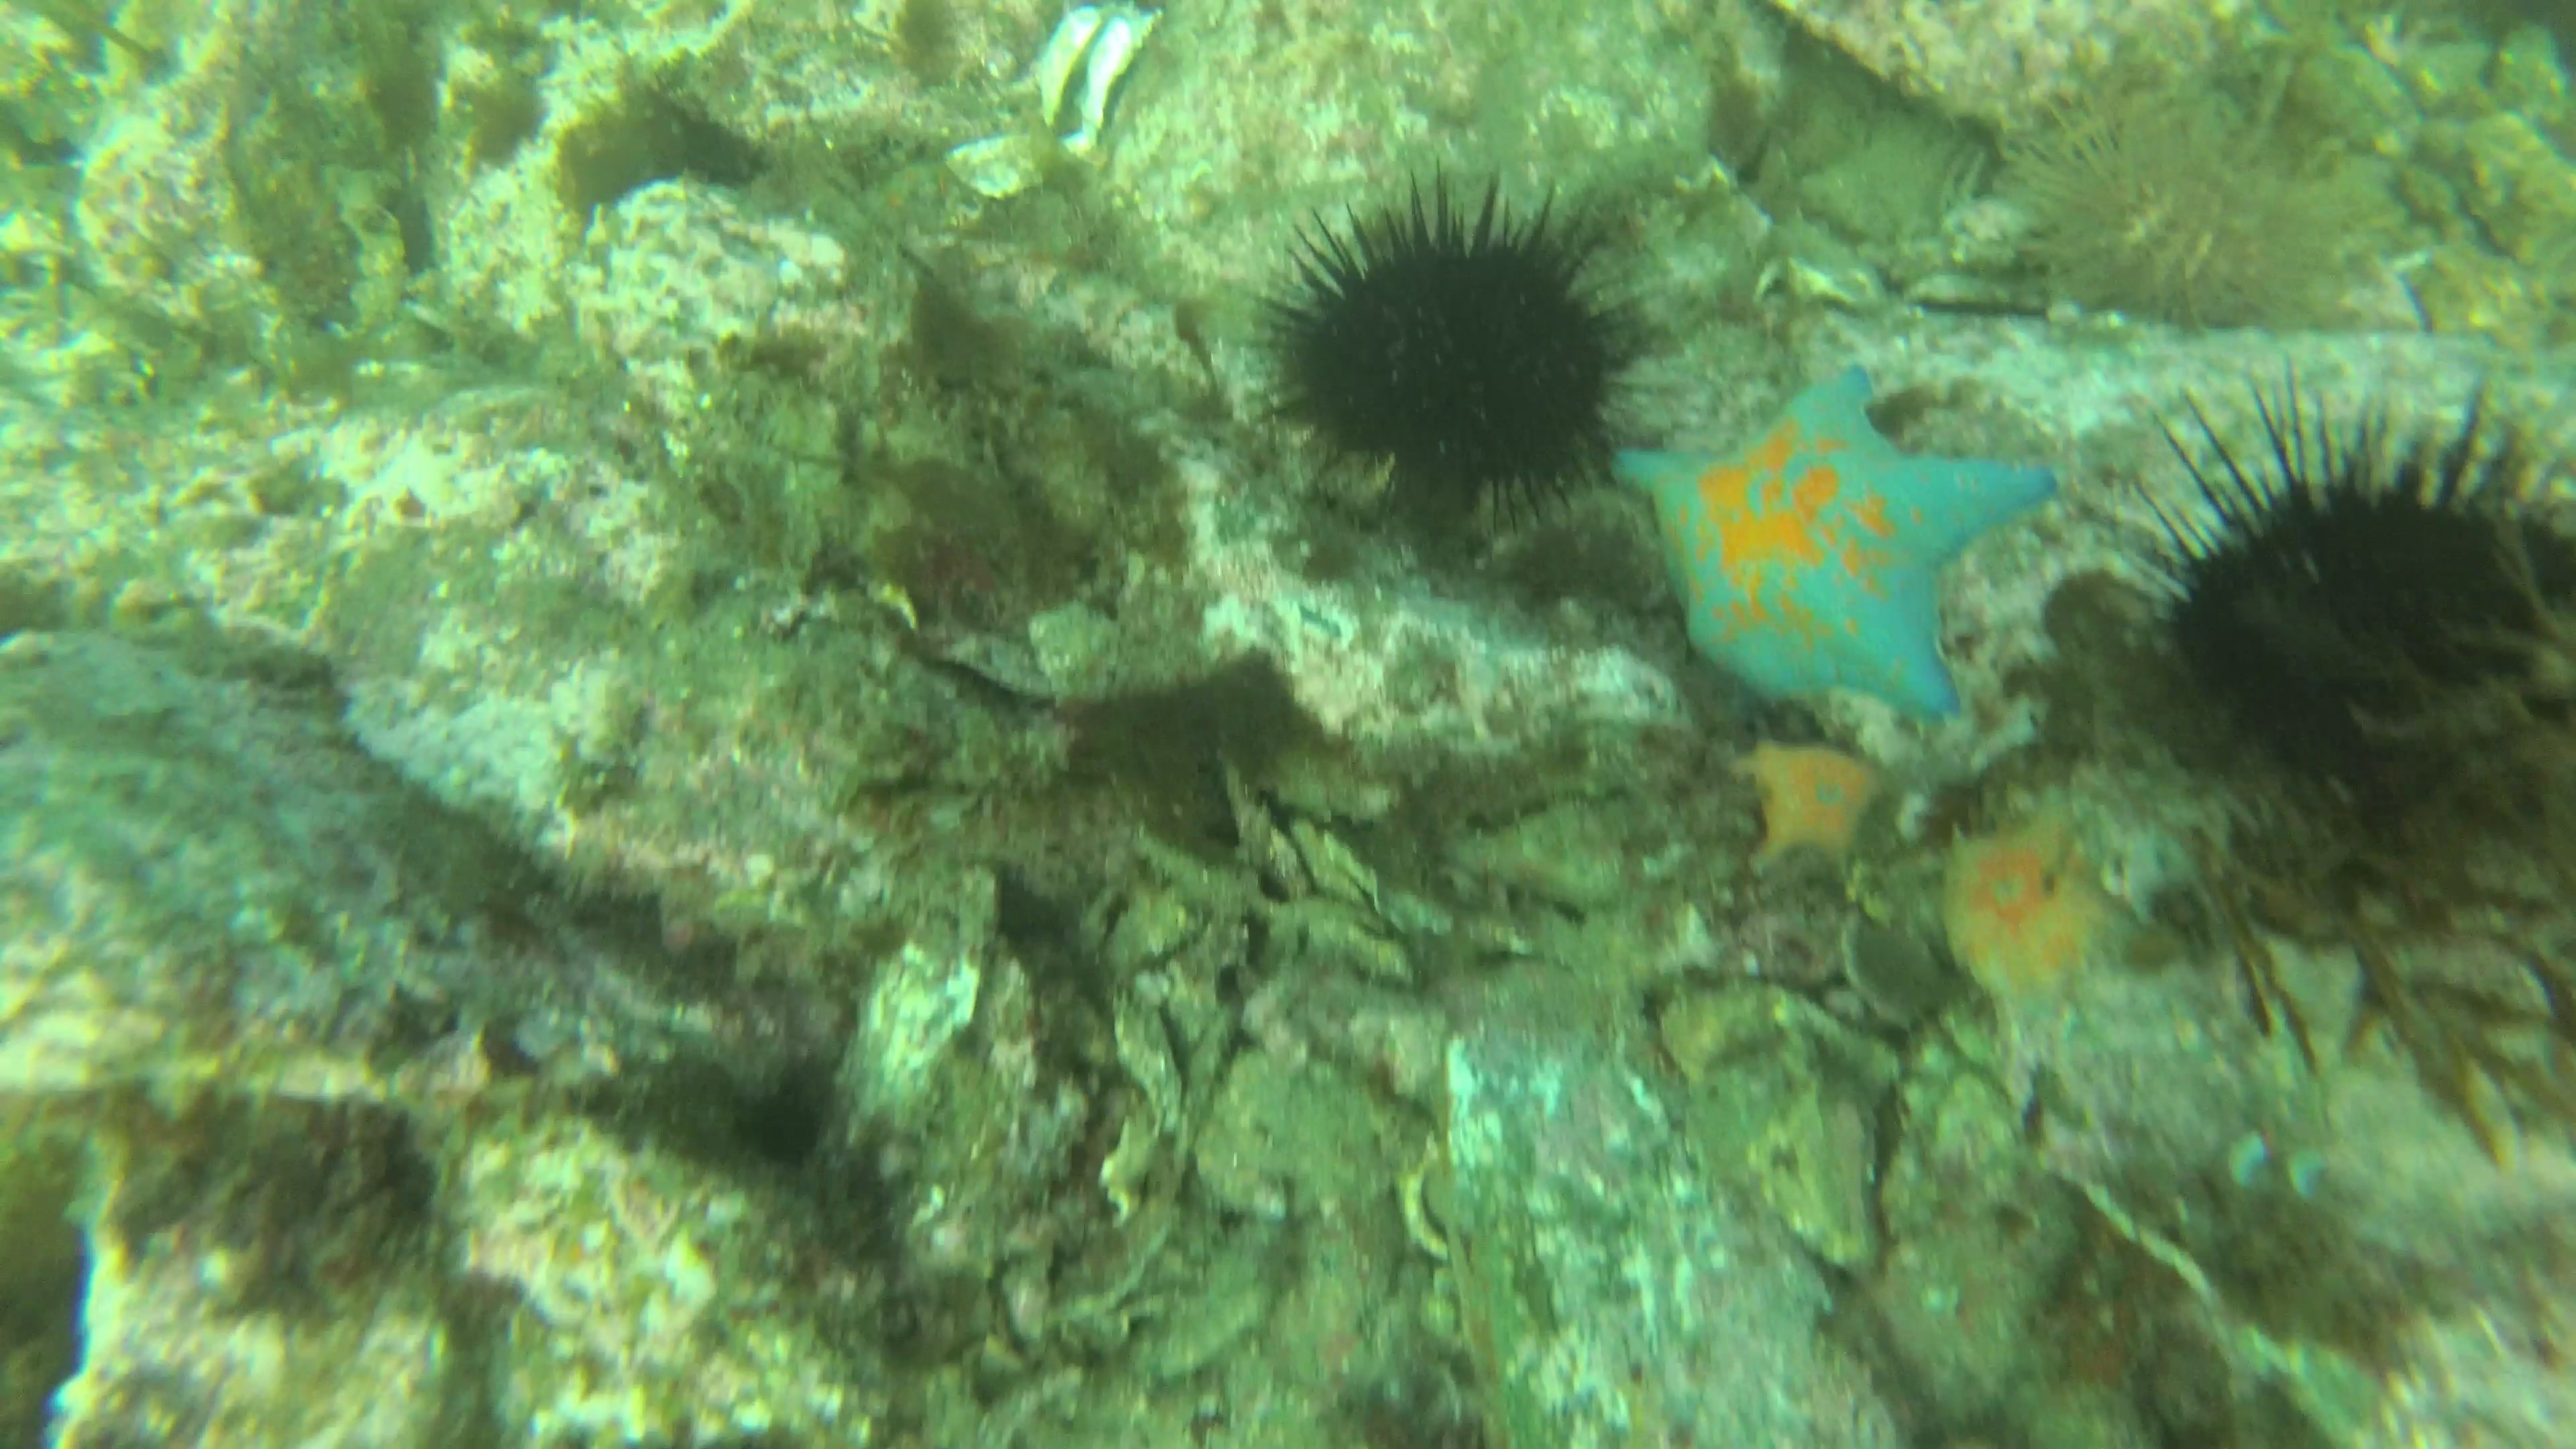echinus: (2107, 377, 2572, 801), (1253, 172, 1651, 541), (1996, 55, 2394, 345)
starfish: (1610, 361, 2063, 731), (1927, 800, 2181, 1035), (1727, 727, 1904, 883)
